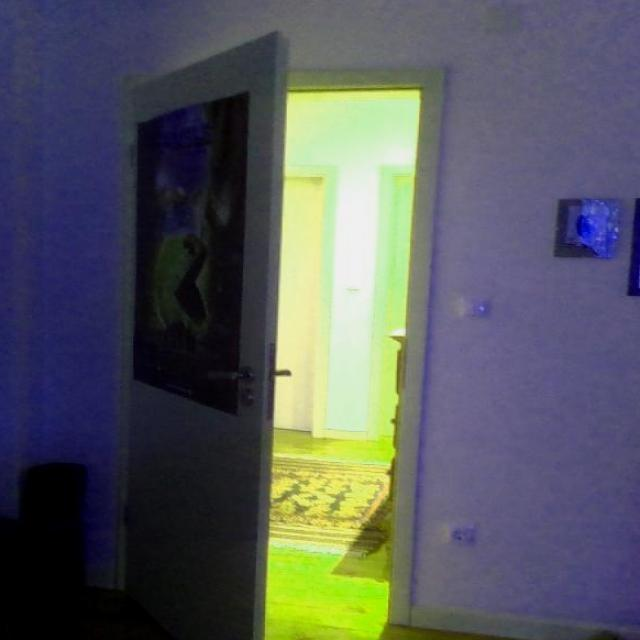door: (112, 24, 301, 640)
